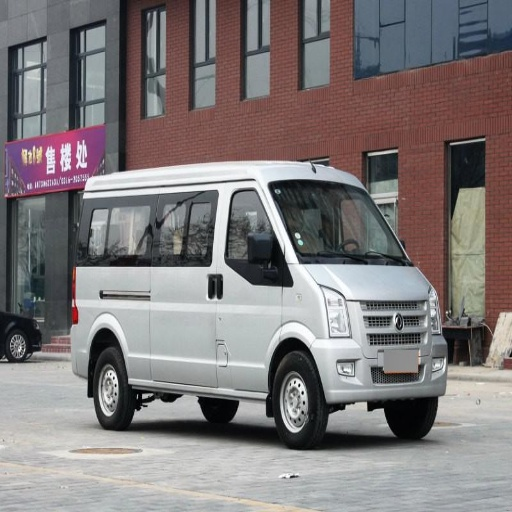front_bumper: (313, 300, 447, 401)
front_glass: (270, 180, 408, 264)
front_right_door: (178, 186, 283, 386)
trunk: (72, 272, 208, 371)
